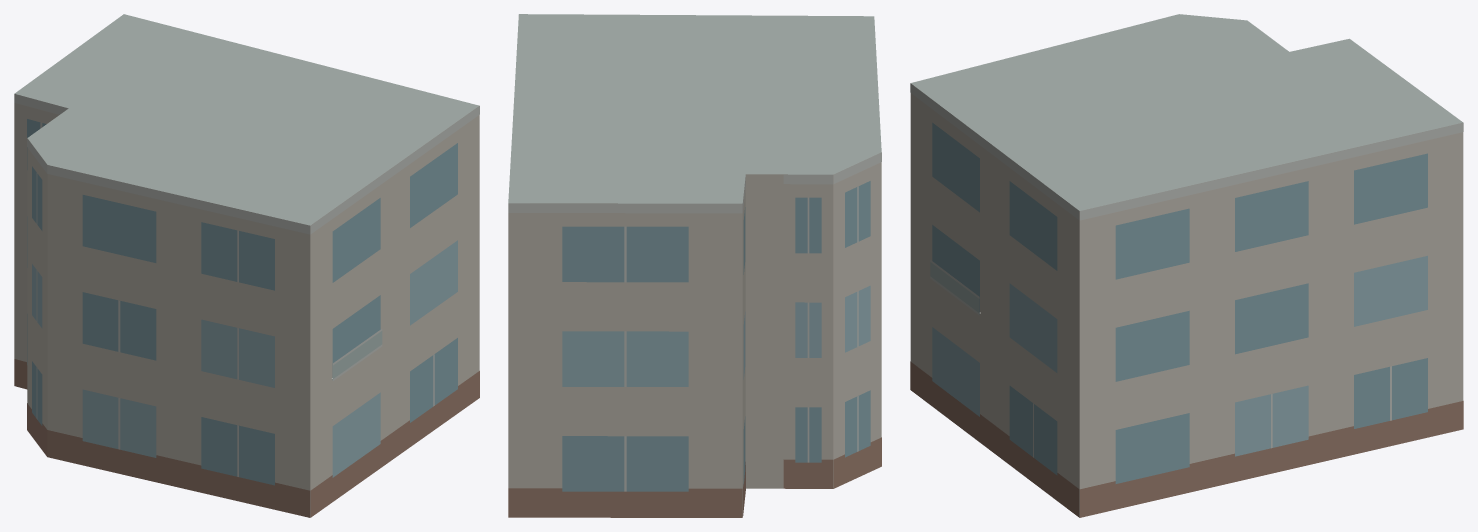
File: survey-upis-32609126.glb
3 renders of one model, left to right at view 1: azimuth 30°, elevation 25°; view 2: azimuth 150°, elevation 25°; view 3: azimuth 270°, elevation 25°, orthographic. The views are drawn at different scales.
Visible parts, largest first — view 1: survey-upis-32609126.tmp; view 2: survey-upis-32609126.tmp; view 3: survey-upis-32609126.tmp.
Part boxes in pixels (box(x1,y1,x2,y2)): survey-upis-32609126.tmp: box(14, 14, 479, 517); survey-upis-32609126.tmp: box(508, 14, 881, 517); survey-upis-32609126.tmp: box(910, 14, 1463, 517).
Size of the model in its own units: 10.9 by 7.9 by 12.92.
